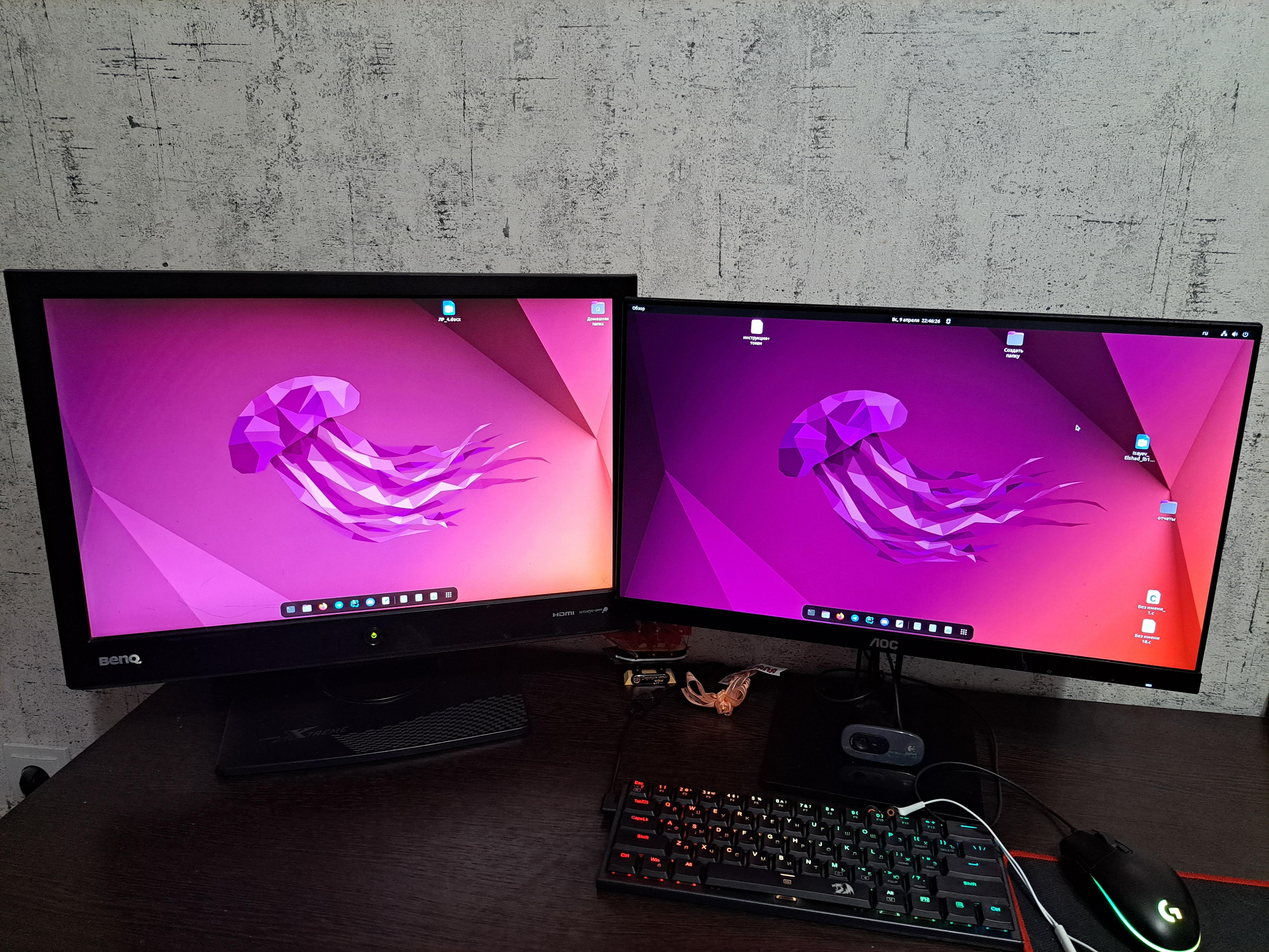monitor: (1, 265, 648, 690), (613, 301, 1264, 695)
